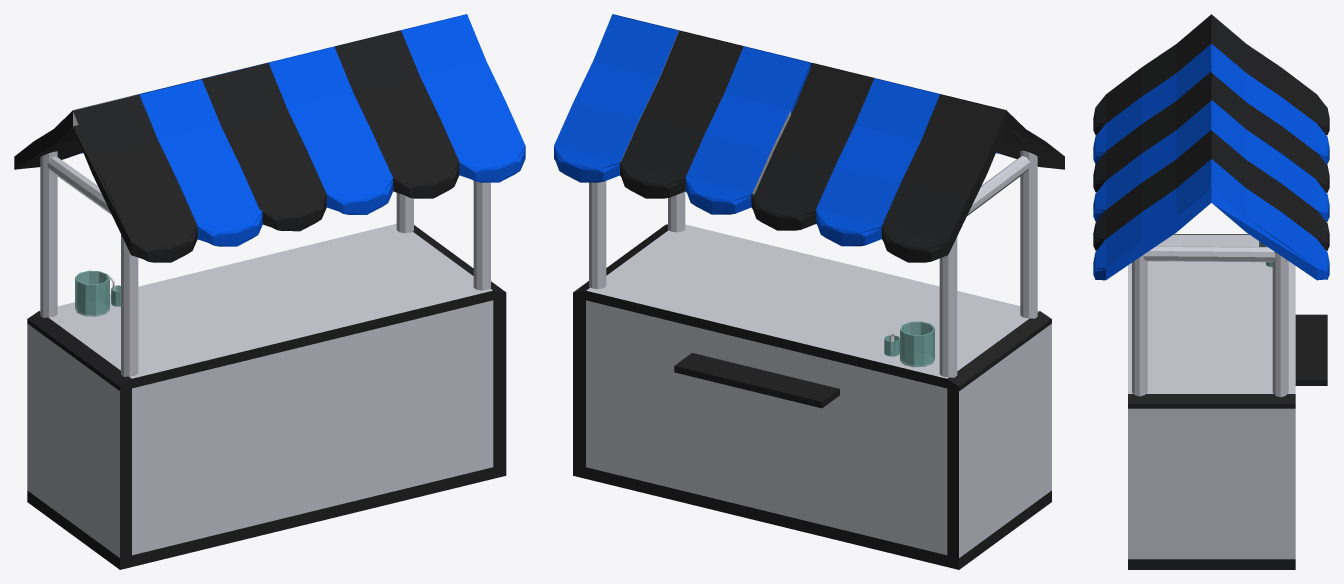
Rendered from kraampje.fbx.
The picture shows the model from 3 angles, left to right: view 1: azimuth 30°, elevation 25°; view 2: azimuth 150°, elevation 25°; view 3: azimuth 270°, elevation 25°; orthographic projection. The views are drawn at different scales.
Parts seen in each view (by area): view 1: pCylinder10; view 2: pCylinder10; view 3: pCylinder10.
Part boxes in pixels (left/top/right/bottom): pCylinder10: left=14, top=14, right=525, bottom=569; pCylinder10: left=554, top=14, right=1064, bottom=569; pCylinder10: left=1093, top=14, right=1329, bottom=569.
Size of the model in its own units: 3.35 by 3.46 by 1.92.
